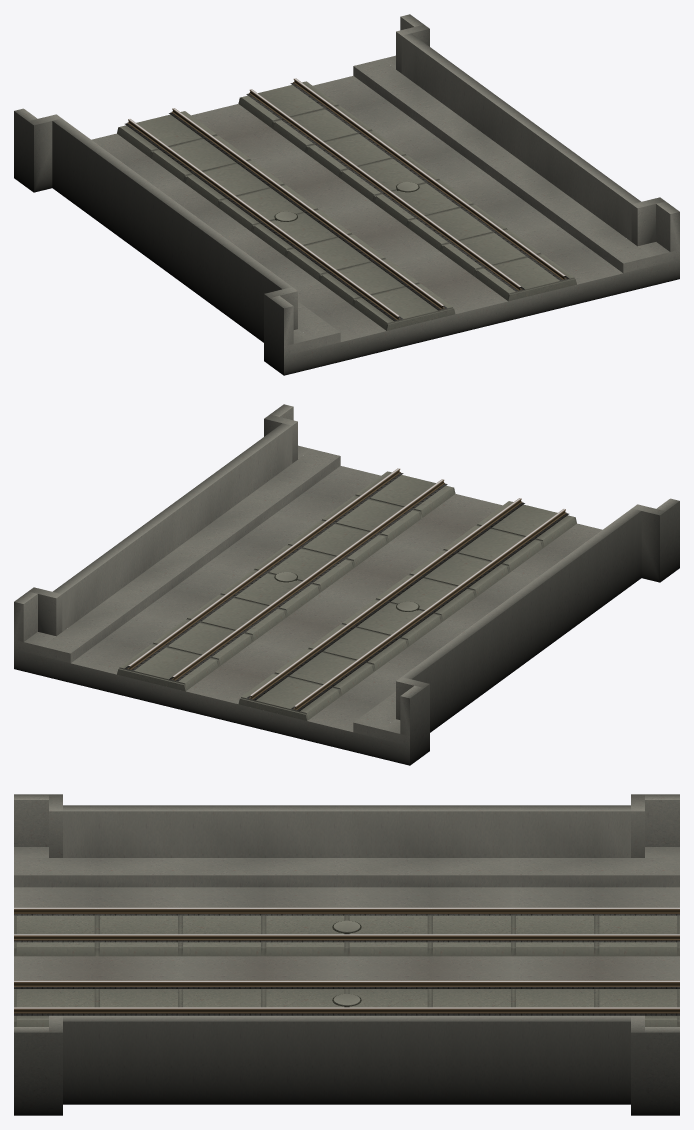
Rendered from 2RAIL50_KONKURI.glb.
3 renders of one model, top to bottom at view 1: azimuth 30°, elevation 25°; view 2: azimuth 150°, elevation 25°; view 3: azimuth 270°, elevation 25°, orthographic. The views are drawn at different scales.
Visible parts, largest first — view 1: obj6; view 2: obj6; view 3: obj6, obj1.
Boxes of the visible parts, <box> form: obj6: <box>14,14,679,375</box>; obj6: <box>14,404,679,765</box>; obj6: <box>14,794,679,1115</box>; obj1: <box>332,920,361,1007</box>.
Size of the model in its own units: 42.36 by 6.88 by 50.
4 materials, 3 textured.
